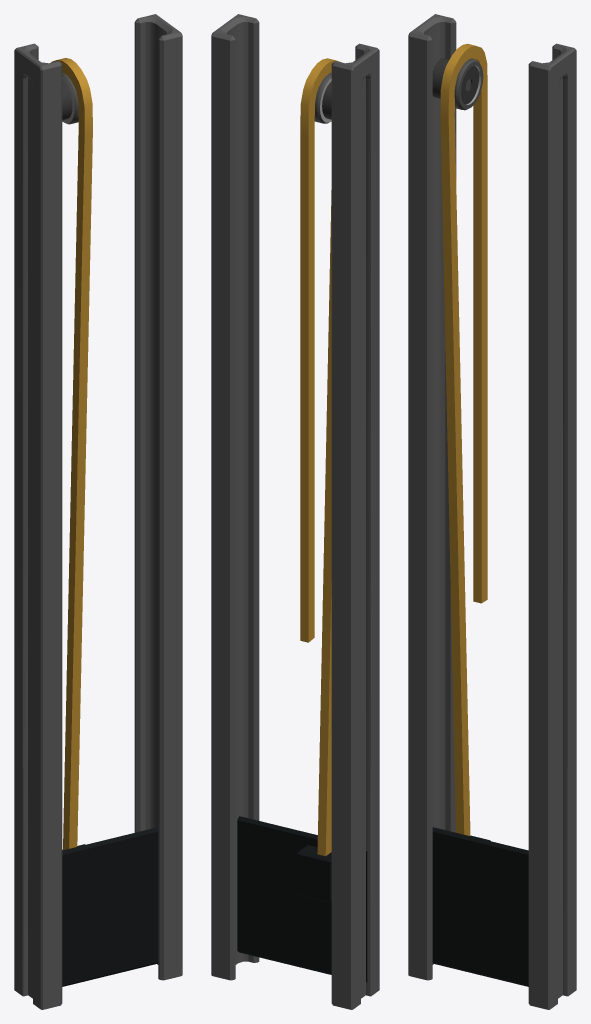
Rendered from mast_2.glb.
3 views of the same model, side by side, from view 1: azimuth 30°, elevation 25°; view 2: azimuth 150°, elevation 25°; view 3: azimuth 330°, elevation 25° (orthographic).
Visible parts, largest first — view 1: CHAINSYSTEM_2; view 2: CHAINSYSTEM_2; view 3: CHAINSYSTEM_2.
Part boxes in pixels (x1,y1,x2,y2): CHAINSYSTEM_2: [14, 14, 182, 1009]; CHAINSYSTEM_2: [211, 14, 379, 1009]; CHAINSYSTEM_2: [408, 14, 576, 1009].
Size of the model in its own units: 0.4115 by 2.61 by 0.1952.
1 material, 1 textured.
